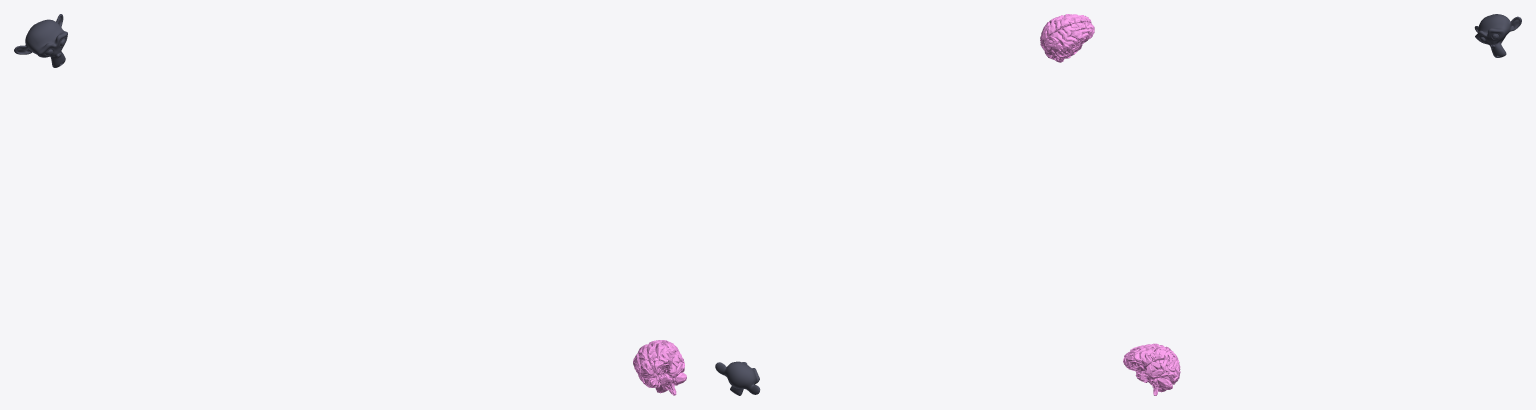
File: bob.glb
3 renders of one model, left to right at view 1: azimuth 30°, elevation 25°; view 2: azimuth 150°, elevation 25°; view 3: azimuth 330°, elevation 25°, orthographic. The views are drawn at different scales.
Visible parts, largest first — view 1: Suzanne, right_08 - Default_0 Front; view 2: Suzanne, left_08 - Default_0 Back, left_08 - Default_0 Front, right_08 - Default_0 Back; view 3: Suzanne, right_08 - Default_0 Back, right_08 - Default_0 Front, centr_08 - Default_0.
Boxes of the visible parts, x1=… form: Suzanne: x1=14, y1=14, x2=67, y2=67; right_08 - Default_0 Front: x1=647, y1=341, x2=678, y2=374; Suzanne: x1=715, y1=361, x2=760, y2=395; left_08 - Default_0 Back: x1=1044, y1=26, x2=1082, y2=60; left_08 - Default_0 Front: x1=1067, y1=22, x2=1094, y2=48; right_08 - Default_0 Back: x1=1040, y1=16, x2=1067, y2=49; Suzanne: x1=1474, y1=14, x2=1521, y2=57; right_08 - Default_0 Back: x1=1144, y1=343, x2=1180, y2=384; right_08 - Default_0 Front: x1=1126, y1=343, x2=1159, y2=372; centr_08 - Default_0: x1=1127, y1=365, x2=1172, y2=395.
Bounding box in the file's own units: 5.13 × 1.86 × 28.13.
